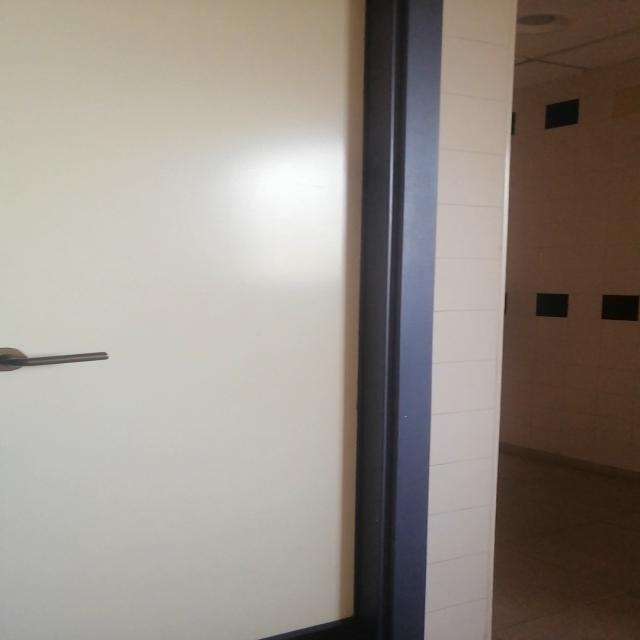door_handle: (0, 351, 112, 370)
